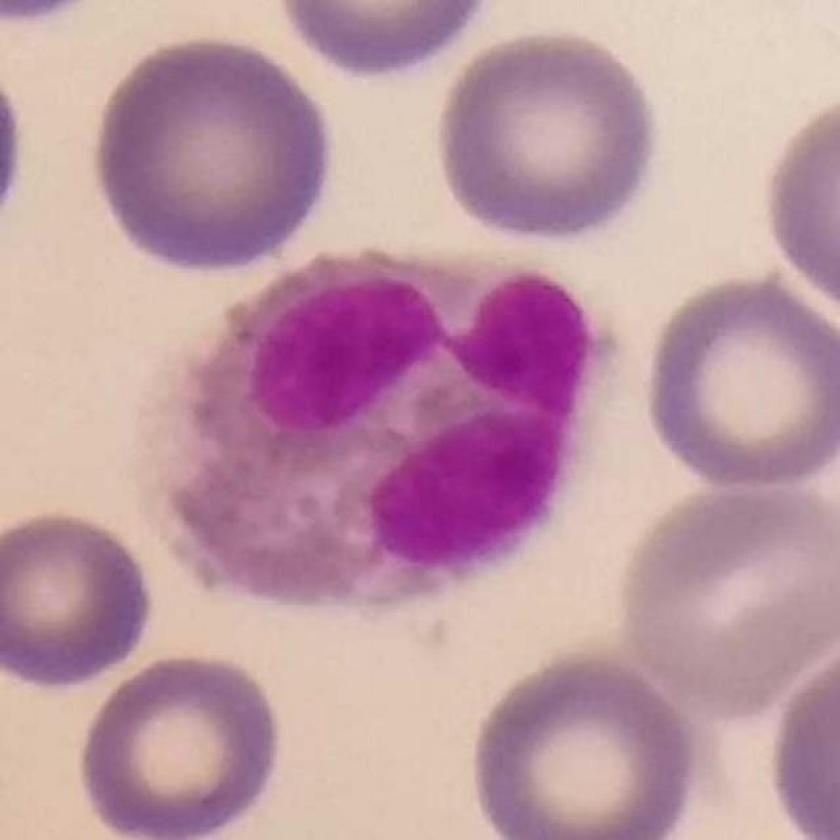eosinophil: (130, 244, 617, 615)
